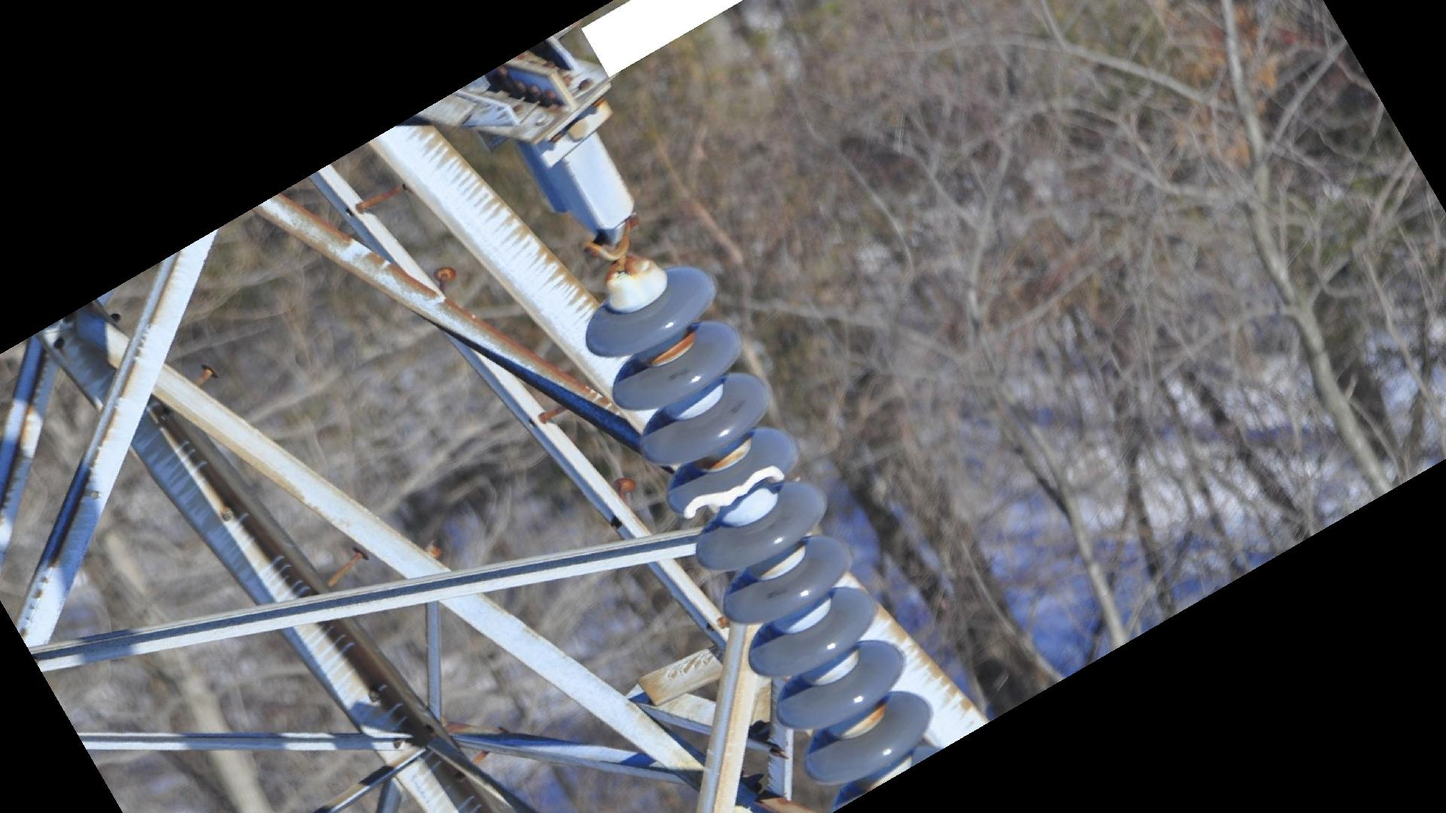insulator: (578, 259, 944, 813)
insulator_breakage: (676, 459, 792, 524)
